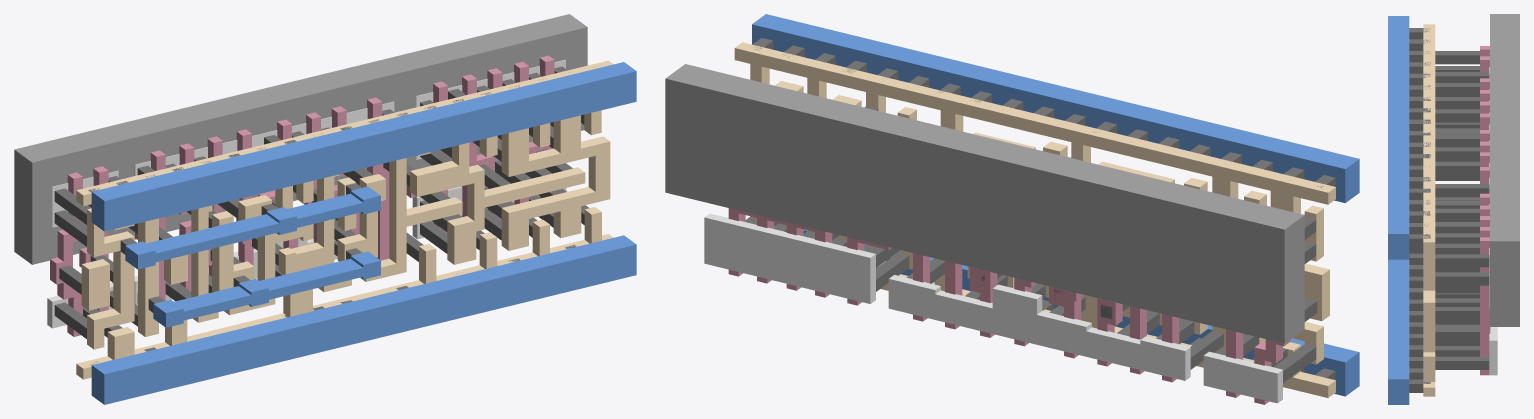
File: sky130_fd_sc_hd__dfxtp_4.gds.gltf
3 views of the same model, side by side, from view 1: azimuth 30°, elevation 25°; view 2: azimuth 150°, elevation 25°; view 3: azimuth 270°, elevation 25° (orthographic). The views are drawn at different scales.
Visible parts, largest first — view 1: sky130_fd_sc_hd__dfxtp_4_met1, sky130_fd_sc_hd__dfxtp_4_li1, sky130_fd_sc_hd__dfxtp_4_nwell, sky130_fd_sc_hd__dfxtp_4_licon, sky130_fd_sc_hd__dfxtp_4_poly, sky130_fd_sc_hd__dfxtp_4_diff, sky130_fd_sc_hd__dfxtp_4_mcon; view 2: sky130_fd_sc_hd__dfxtp_4_nwell, sky130_fd_sc_hd__dfxtp_4_diff, sky130_fd_sc_hd__dfxtp_4_li1, sky130_fd_sc_hd__dfxtp_4_met1, sky130_fd_sc_hd__dfxtp_4_poly, sky130_fd_sc_hd__dfxtp_4_licon, sky130_fd_sc_hd__dfxtp_4_mcon; view 3: sky130_fd_sc_hd__dfxtp_4_licon, sky130_fd_sc_hd__dfxtp_4_nwell, sky130_fd_sc_hd__dfxtp_4_met1, sky130_fd_sc_hd__dfxtp_4_mcon, sky130_fd_sc_hd__dfxtp_4_li1, sky130_fd_sc_hd__dfxtp_4_poly, sky130_fd_sc_hd__dfxtp_4_diff.
Boxes of the visible parts, box(x1,y1,x2,y2) form: sky130_fd_sc_hd__dfxtp_4_met1: box(91, 62, 636, 404); sky130_fd_sc_hd__dfxtp_4_li1: box(76, 60, 613, 379); sky130_fd_sc_hd__dfxtp_4_nwell: box(14, 14, 587, 264); sky130_fd_sc_hd__dfxtp_4_licon: box(54, 66, 589, 338); sky130_fd_sc_hd__dfxtp_4_poly: box(50, 55, 554, 336); sky130_fd_sc_hd__dfxtp_4_diff: box(47, 59, 566, 328); sky130_fd_sc_hd__dfxtp_4_mcon: box(88, 78, 576, 365); sky130_fd_sc_hd__dfxtp_4_nwell: box(665, 64, 1304, 343); sky130_fd_sc_hd__dfxtp_4_diff: box(704, 213, 1282, 403); sky130_fd_sc_hd__dfxtp_4_li1: box(734, 42, 1335, 397); sky130_fd_sc_hd__dfxtp_4_met1: box(752, 14, 1359, 396); sky130_fd_sc_hd__dfxtp_4_poly: box(728, 208, 1290, 404); sky130_fd_sc_hd__dfxtp_4_licon: box(745, 106, 1317, 382); sky130_fd_sc_hd__dfxtp_4_mcon: box(753, 38, 1335, 379); sky130_fd_sc_hd__dfxtp_4_licon: box(1435, 51, 1489, 369); sky130_fd_sc_hd__dfxtp_4_nwell: box(1490, 14, 1519, 326); sky130_fd_sc_hd__dfxtp_4_met1: box(1388, 16, 1409, 404); sky130_fd_sc_hd__dfxtp_4_mcon: box(1409, 28, 1430, 392); sky130_fd_sc_hd__dfxtp_4_li1: box(1423, 24, 1435, 396); sky130_fd_sc_hd__dfxtp_4_poly: box(1480, 46, 1490, 375); sky130_fd_sc_hd__dfxtp_4_diff: box(1489, 67, 1497, 375).
Size of the model in its own units: 9.12 by 3.2 by 2.24.
